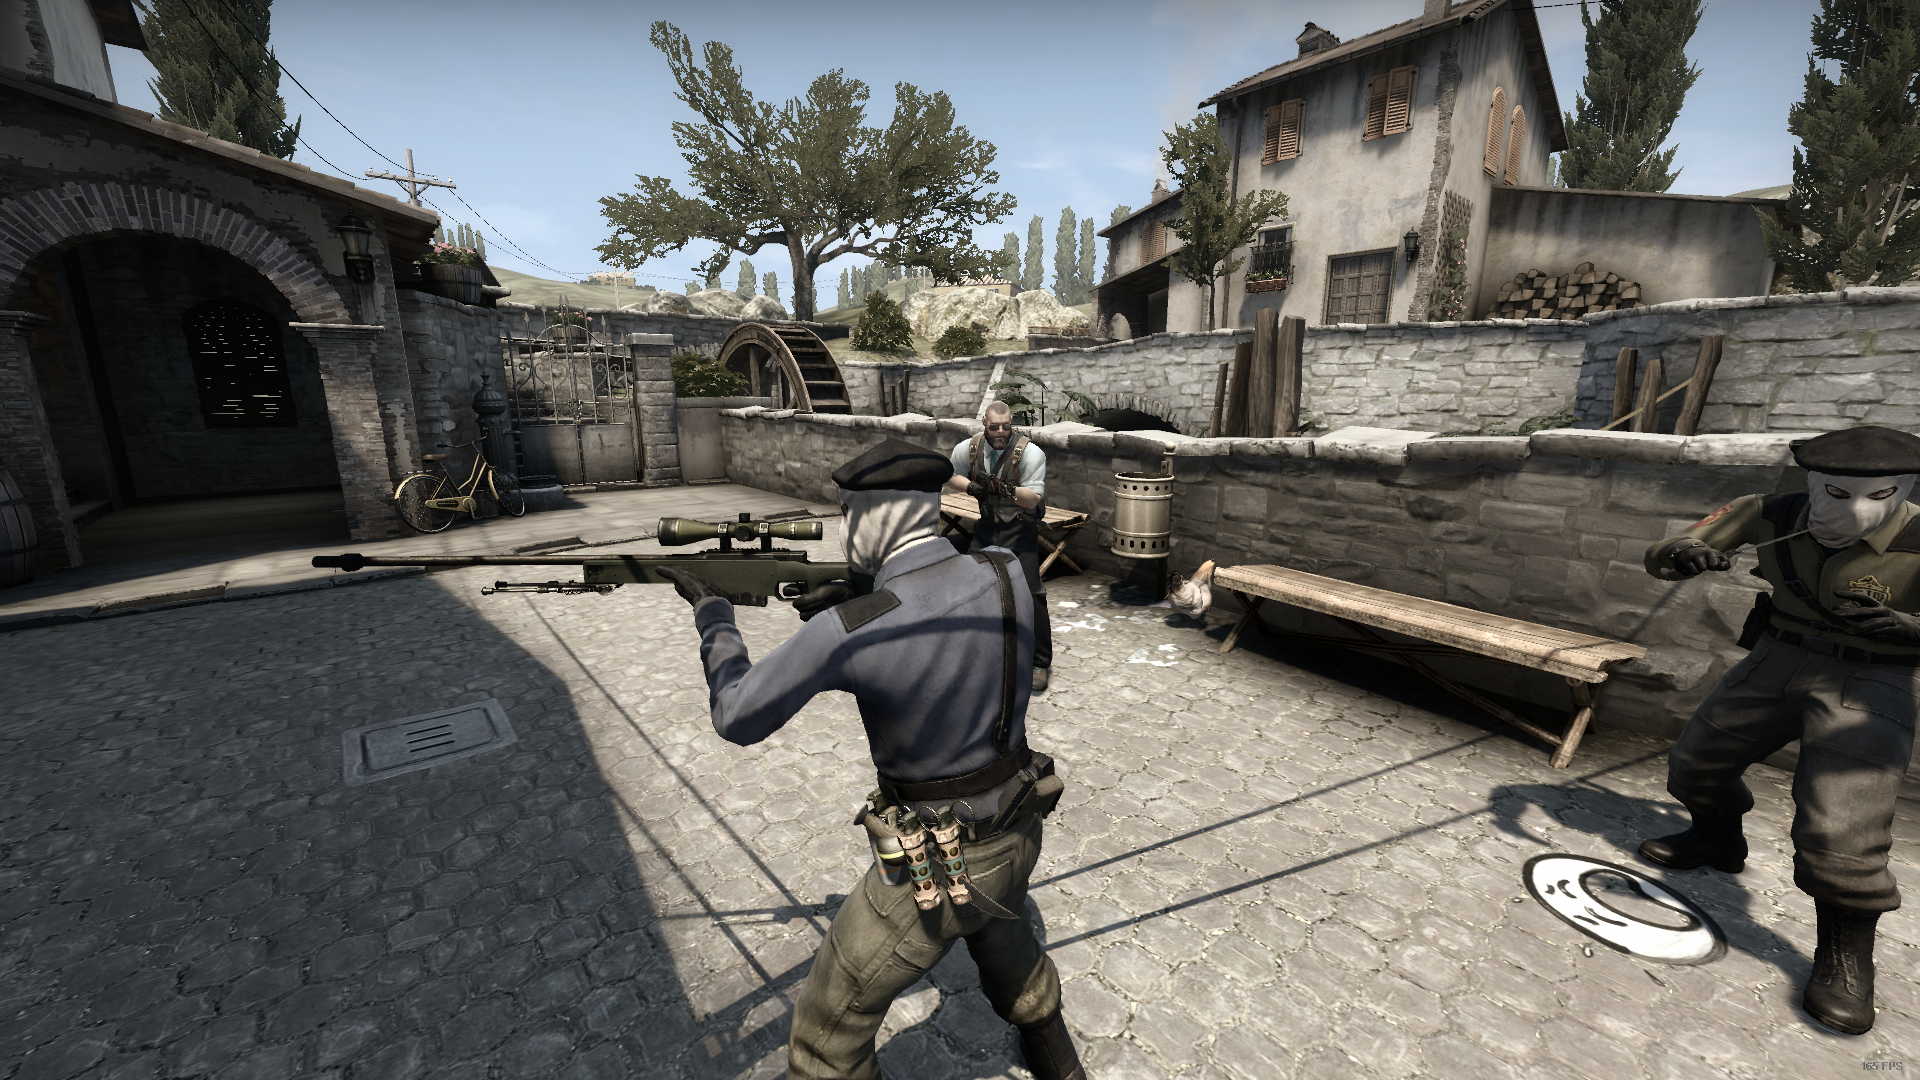t: (663, 436, 1087, 1080), (1644, 426, 1920, 1036)
